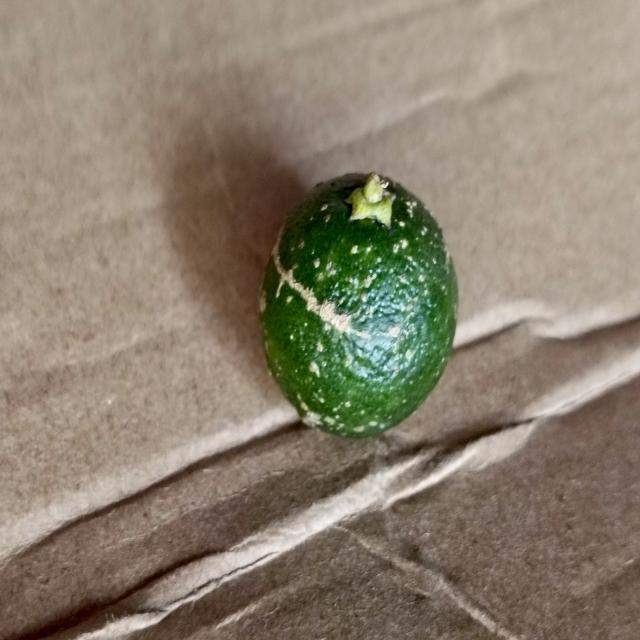scab: (253, 178, 460, 432)
